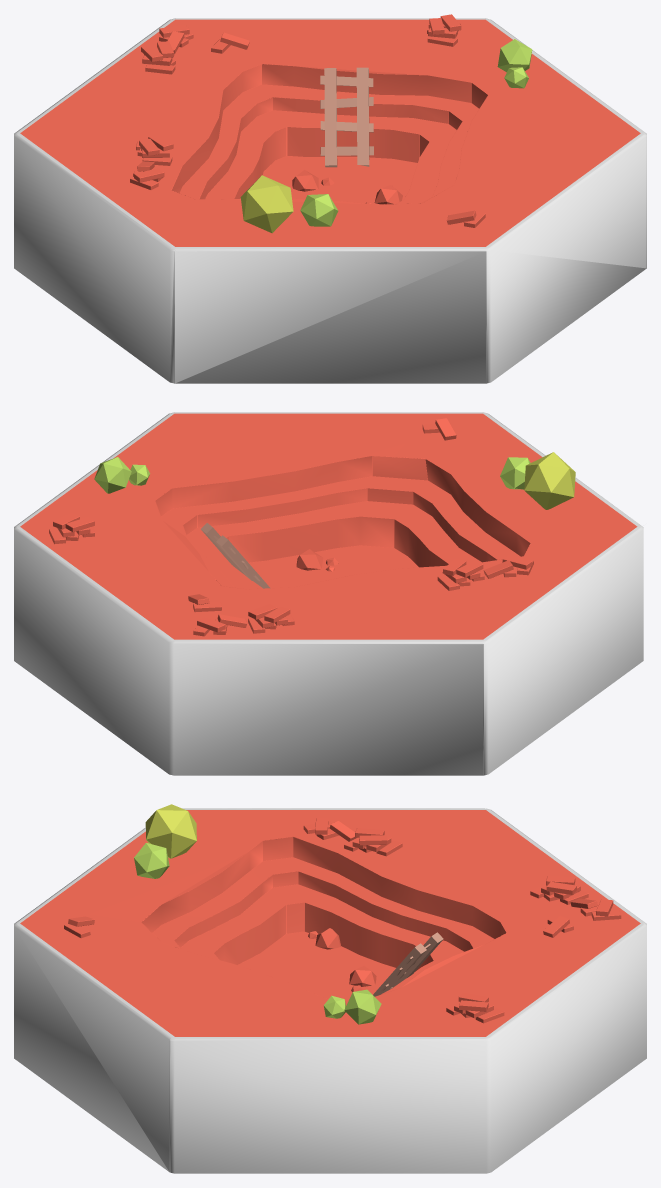
Rendered from basetile_claypit_ladder.fbx.
The picture shows the model from 3 angles, top to bottom: view 1: azimuth 30°, elevation 25°; view 2: azimuth 150°, elevation 25°; view 3: azimuth 270°, elevation 25°; orthographic projection.
Visible parts, largest first — view 1: BasePlate, Cube.008, Icosphere.010, Icosphere.009, Cube.002, Cube.003, Cube.006, Icosphere.007, Cube.004, Cube.001; view 2: BasePlate, Icosphere.010, Cube.008, Cube.003, Cube.006, Cube.002, Icosphere.007, Cube.004, Cube.001, Icosphere.009; view 3: BasePlate, Icosphere.010, Cube.008, Cube.003, Cube.002, Cube.006, Icosphere.009, Icosphere.007, Cube.001, Cube.004.
Boxes of the visible parts, x1,y1,x2,y2 form: BasePlate: (14, 18, 646, 383); Cube.008: (320, 67, 373, 167); Icosphere.010: (240, 175, 293, 233); Icosphere.009: (300, 194, 338, 226); Cube.002: (141, 41, 175, 74); Cube.003: (136, 134, 173, 165); Cube.006: (427, 14, 461, 46); Icosphere.007: (497, 39, 532, 72); Cube.004: (130, 161, 164, 189); Cube.001: (159, 24, 193, 53); BasePlate: (14, 412, 643, 775); Icosphere.010: (524, 452, 575, 509); Cube.008: (201, 523, 270, 588); Cube.003: (437, 559, 484, 590); Cube.006: (49, 513, 94, 544); Cube.002: (248, 604, 294, 633); Icosphere.007: (94, 457, 131, 493); Cube.004: (483, 555, 533, 578); Cube.001: (193, 614, 246, 636); Icosphere.009: (500, 457, 530, 489); BasePlate: (14, 808, 646, 1173); Icosphere.010: (145, 804, 196, 858); Cube.008: (373, 932, 443, 996); Cube.003: (344, 828, 402, 856); Cube.002: (530, 876, 588, 904); Cube.006: (446, 992, 504, 1023); Icosphere.009: (134, 843, 169, 878); Icosphere.007: (344, 989, 381, 1024); Cube.001: (570, 898, 621, 920); Cube.004: (303, 818, 356, 841).
Bounding box in the file's own units: 177 × 63.73 × 204.
